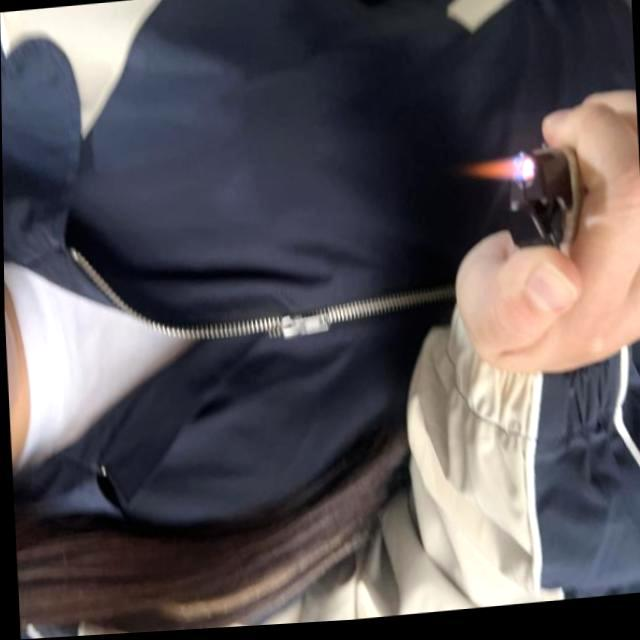fire: (465, 157, 521, 191)
